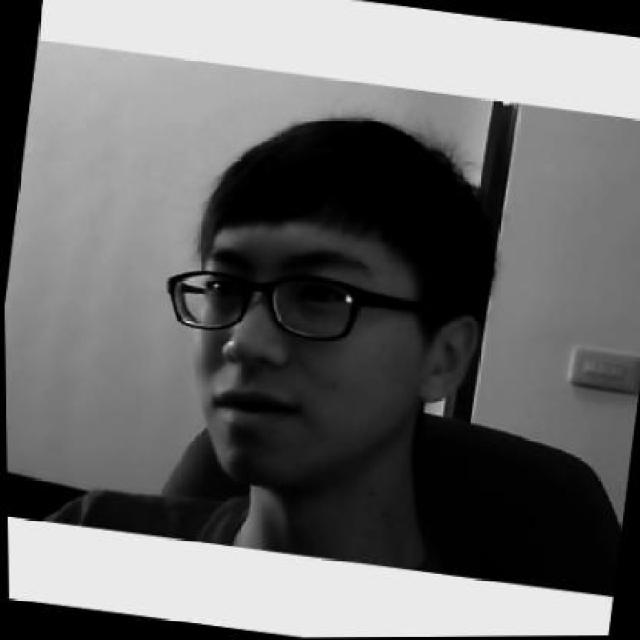attentif: (137, 93, 508, 516)
